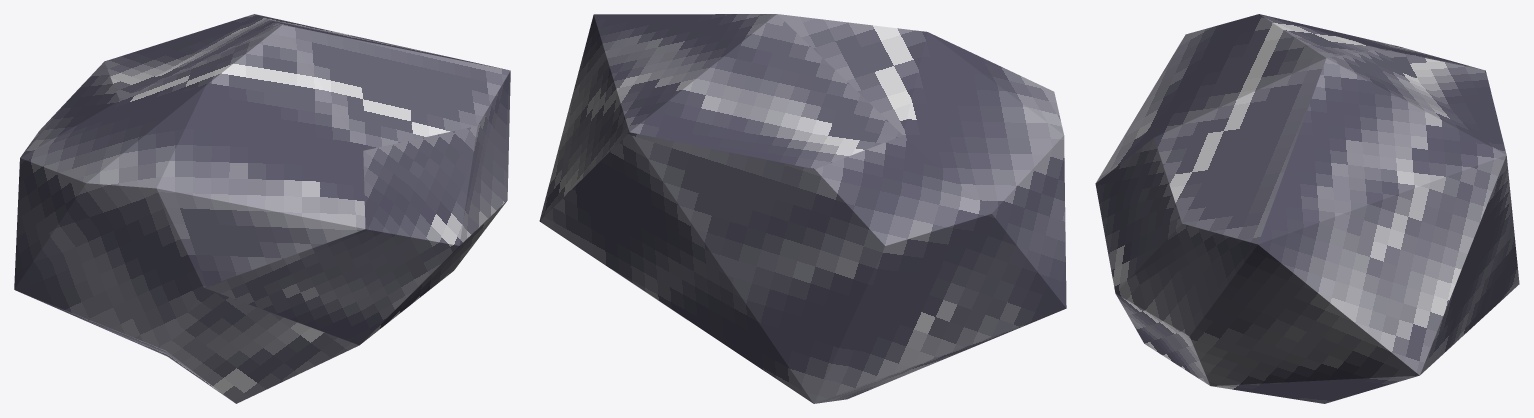
File: Piedra 4.fbx
3 views of the same model, side by side, from view 1: azimuth 30°, elevation 25°; view 2: azimuth 150°, elevation 25°; view 3: azimuth 270°, elevation 25° (orthographic). The views are drawn at different scales.
Visible parts, largest first — view 1: Icosphere; view 2: Icosphere; view 3: Icosphere.
Part boxes in pixels (bbox=[...]): Icosphere: bbox=[14, 14, 510, 403]; Icosphere: bbox=[539, 14, 1066, 403]; Icosphere: bbox=[1095, 14, 1519, 403].
Bounding box in the file's own units: 286 × 184 × 204.
1 material, 1 textured.
